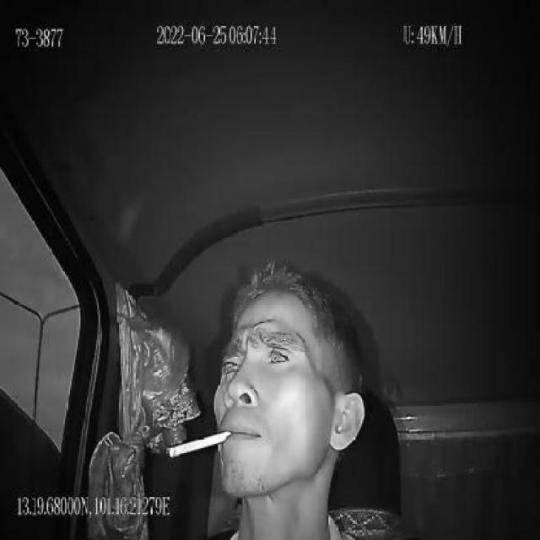smoking: (165, 427, 233, 463)
